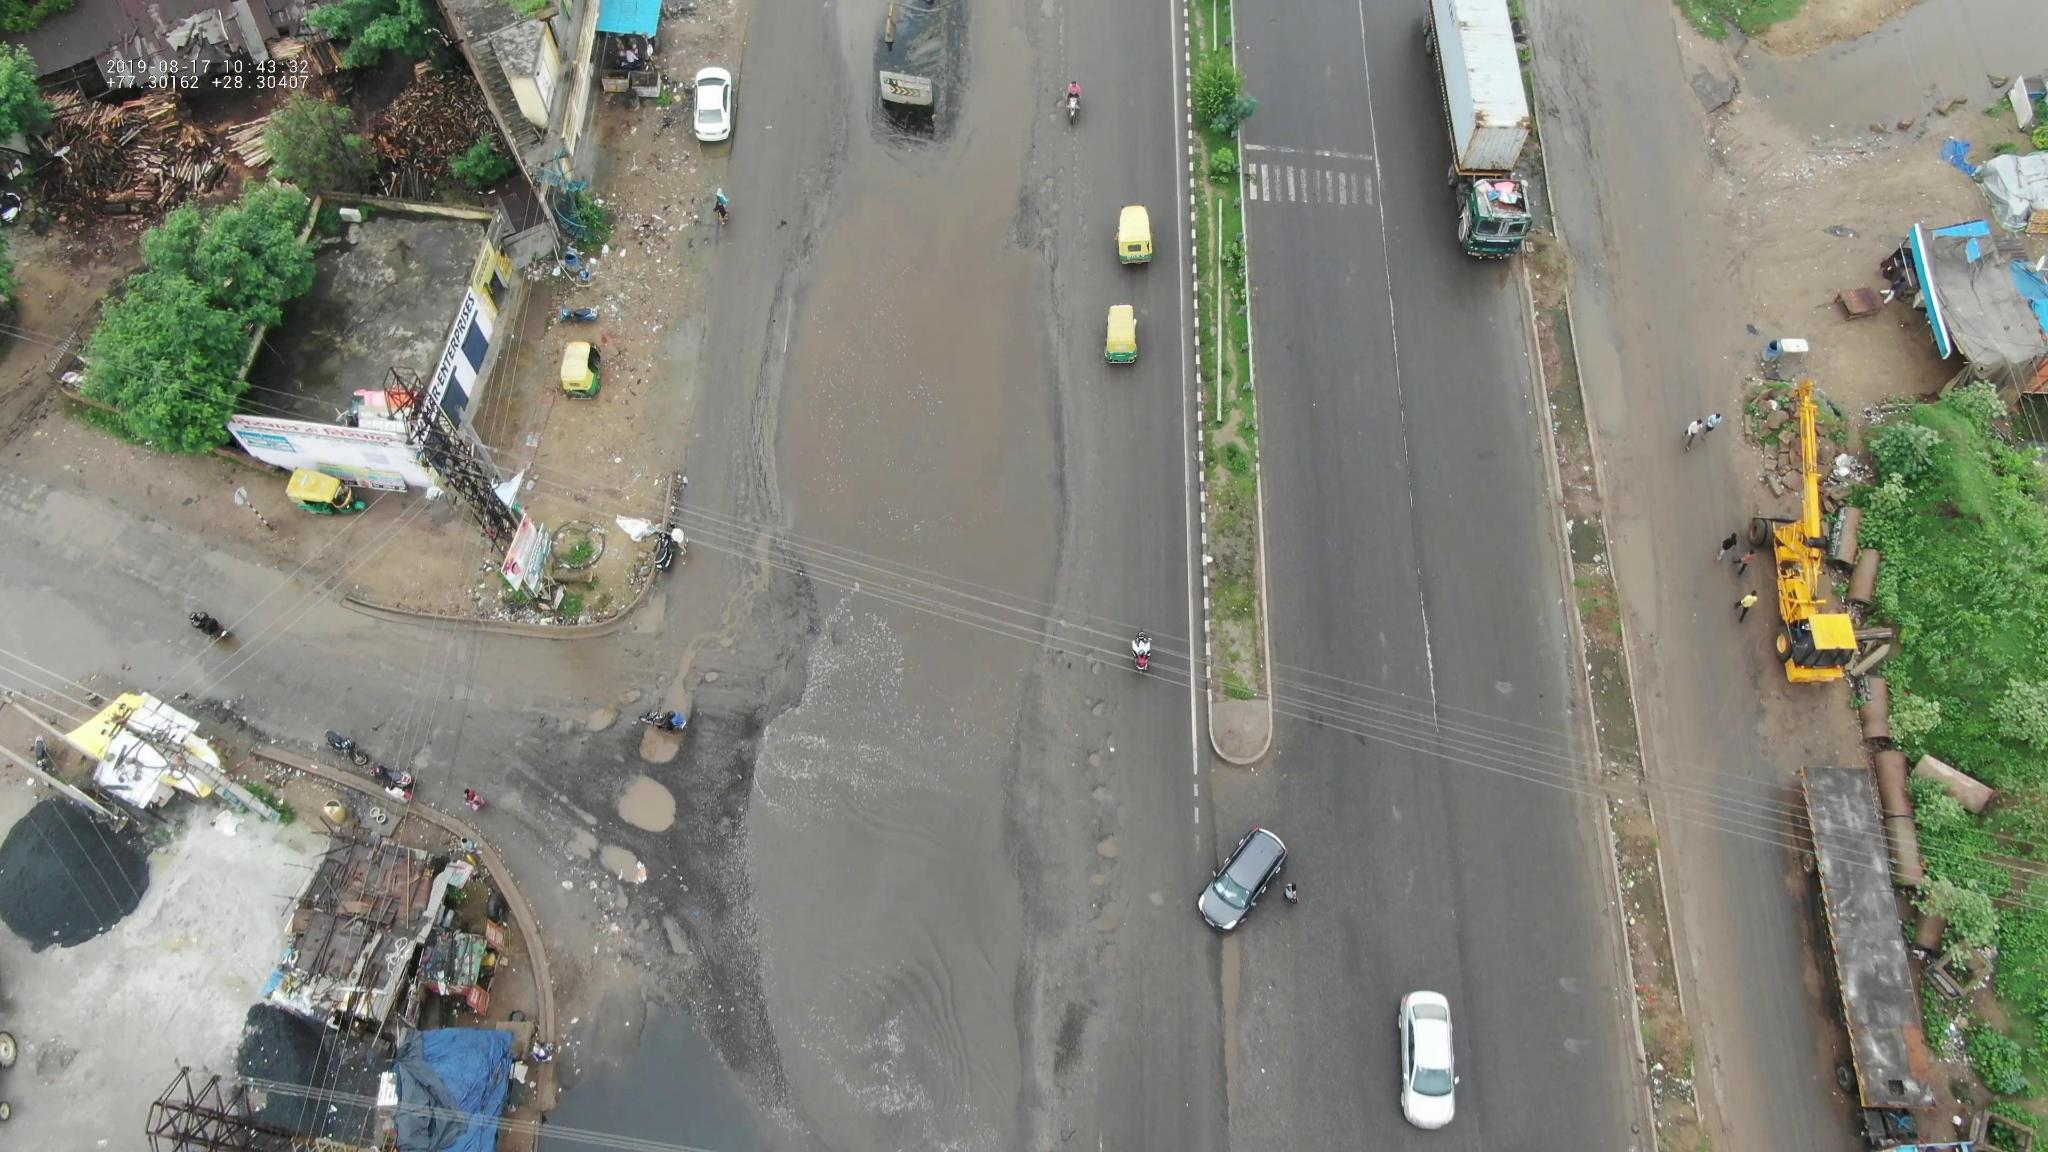Potholes: (563, 674, 712, 942), (1061, 641, 1137, 924), (1030, 136, 1110, 264), (1370, 776, 1440, 897), (1530, 934, 1587, 1075), (1461, 641, 1543, 717), (414, 668, 475, 762), (1035, 6, 1072, 138)
Waterlogging: (783, 595, 1045, 1139), (789, 135, 1075, 543)
